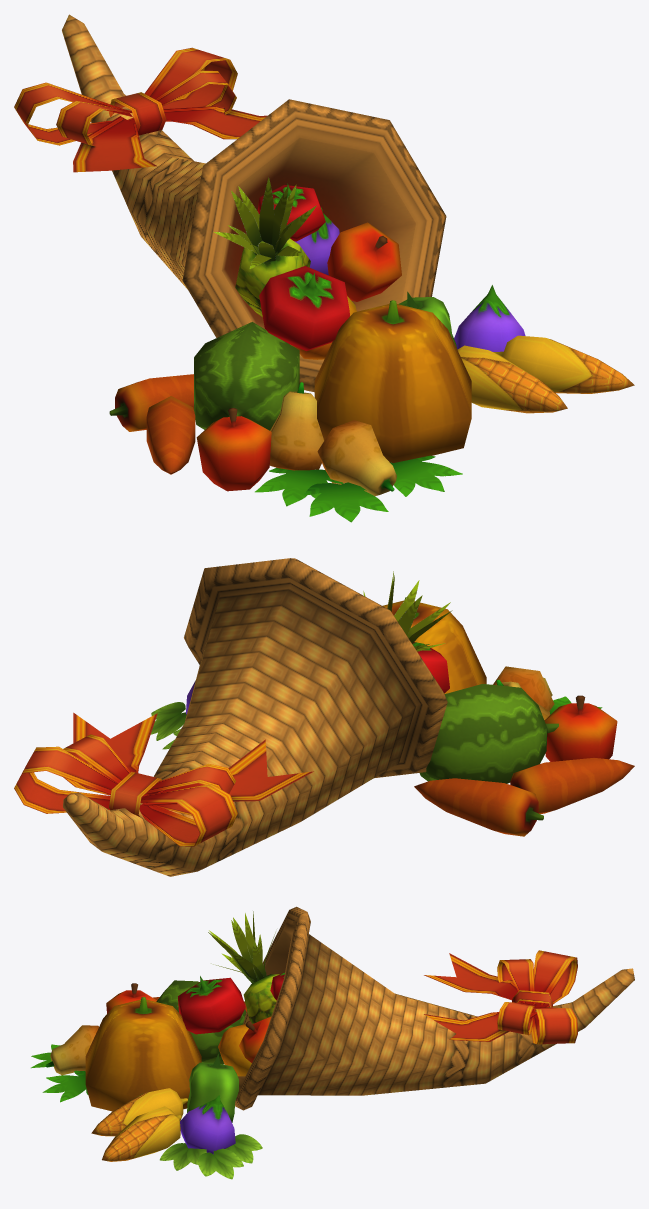
Rendered from Thanks_Giving_Day.FBX.
The picture shows the model from 3 angles, top to bottom: view 1: azimuth 30°, elevation 25°; view 2: azimuth 150°, elevation 25°; view 3: azimuth 270°, elevation 25°; orthographic projection. The views are drawn at different scales.
Visible parts, largest first — view 1: ThanksGivingDay; view 2: ThanksGivingDay; view 3: ThanksGivingDay.
Part boxes in pixels (x1=…): ThanksGivingDay: x1=14, y1=14, x2=634, y2=522; ThanksGivingDay: x1=14, y1=558, x2=634, y2=876; ThanksGivingDay: x1=31, y1=906, x2=634, y2=1179.
Size of the model in its own units: 186 by 105 by 294.
